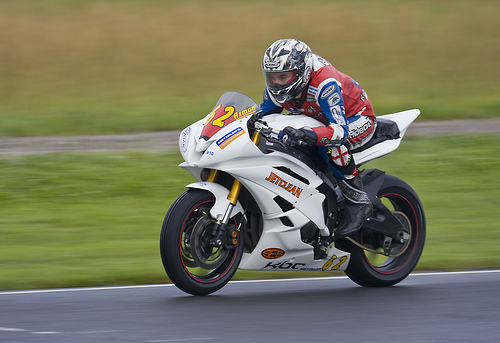helmet: (259, 43, 316, 98)
